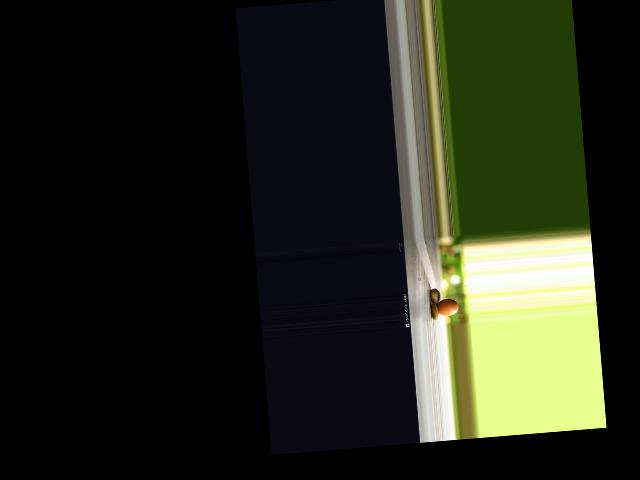egg: (436, 297, 458, 316)
